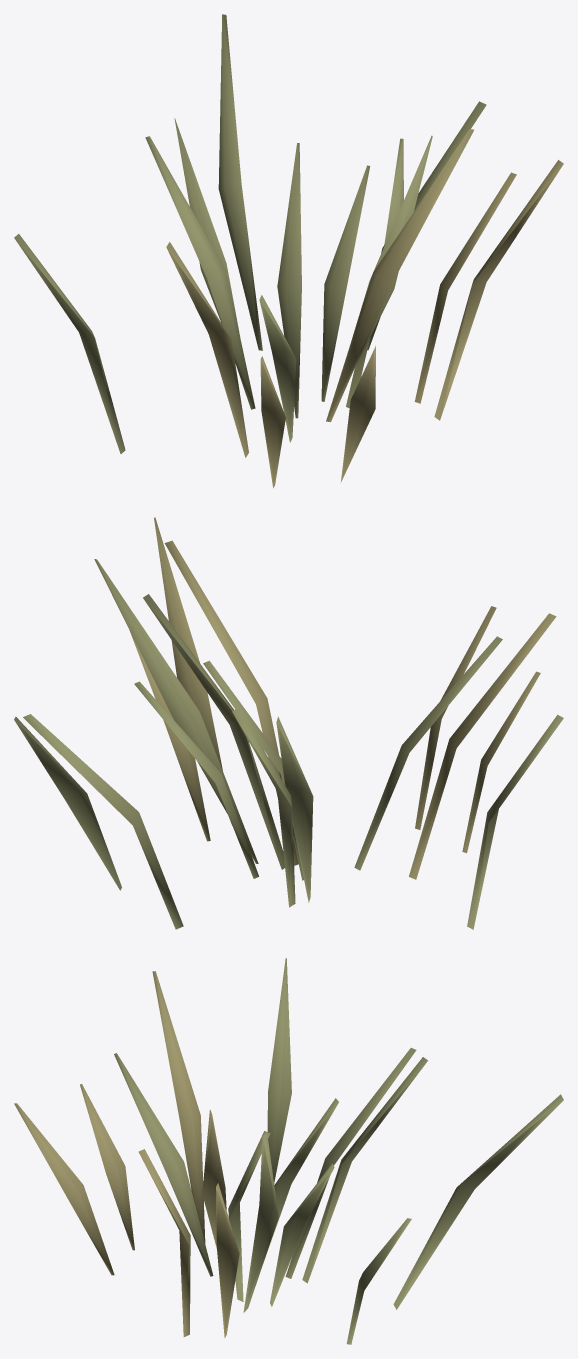
File: Graminees_1.fbx
3 views of the same model, one above another, from view 1: azimuth 30°, elevation 25°; view 2: azimuth 150°, elevation 25°; view 3: azimuth 270°, elevation 25° (orthographic). The views are drawn at different scales.
Visible parts, largest first — view 1: Graminees_1; view 2: Graminees_1; view 3: Graminees_1.
Part boxes in pixels (box(x1,y1,x2,y2)): Graminees_1: box(14, 14, 563, 488); Graminees_1: box(14, 517, 563, 929); Graminees_1: box(14, 958, 563, 1344).
Size of the model in its own units: 48.82 by 26.89 by 53.96.
